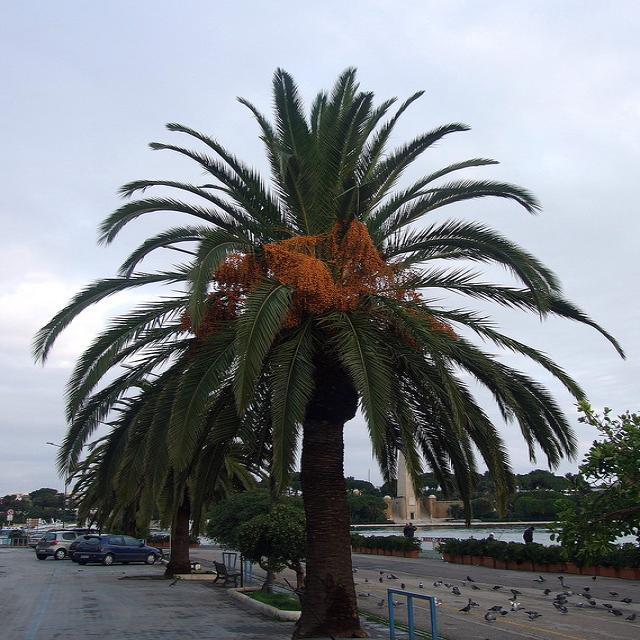Vehicle: (75, 535, 165, 567), (34, 529, 91, 561), (0, 528, 29, 548), (28, 533, 44, 548)
